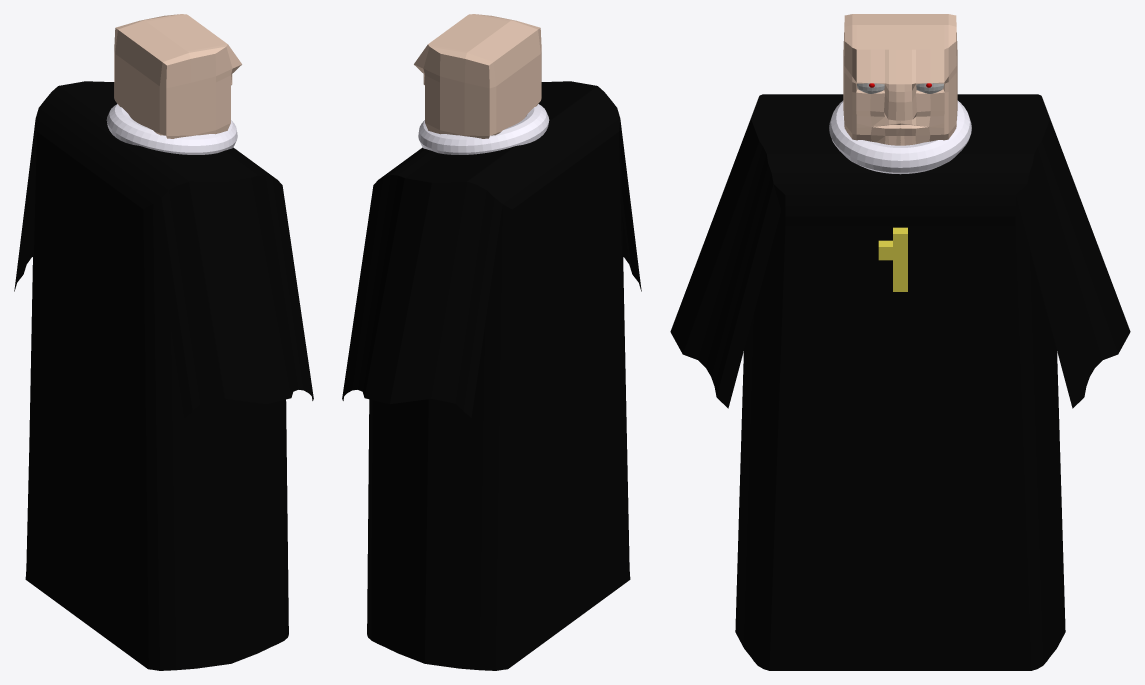
File: Cura.fbx
3 renders of one model, left to right at view 1: azimuth 30°, elevation 25°; view 2: azimuth 150°, elevation 25°; view 3: azimuth 270°, elevation 25°, orthographic. The views are drawn at different scales.
Parts seen in each view (by area): view 1: Torus; view 2: Torus; view 3: Torus.
Boxes of the visible parts, x1,y1,x2,y2 form: Torus: (14,14,313,670); Torus: (342,14,641,670); Torus: (670,14,1130,670).
Bounding box in the file's own units: 340 × 1186 × 806.
